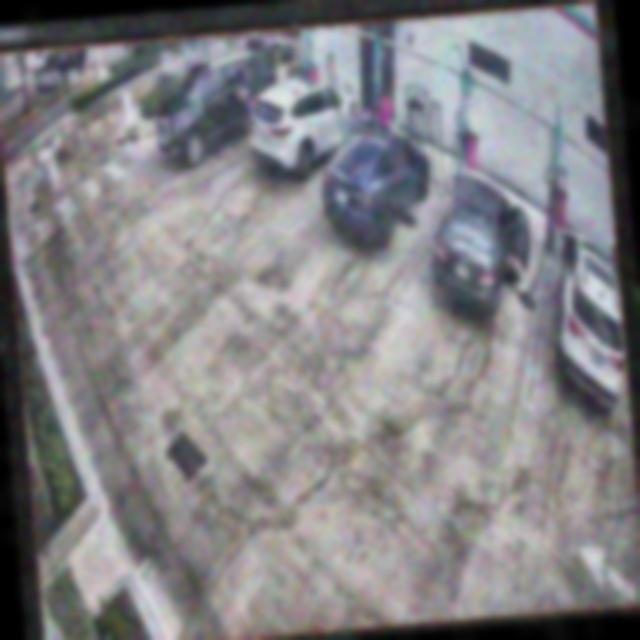Car: (426, 168, 535, 319), (148, 46, 281, 166), (318, 119, 437, 249), (246, 73, 365, 180)
